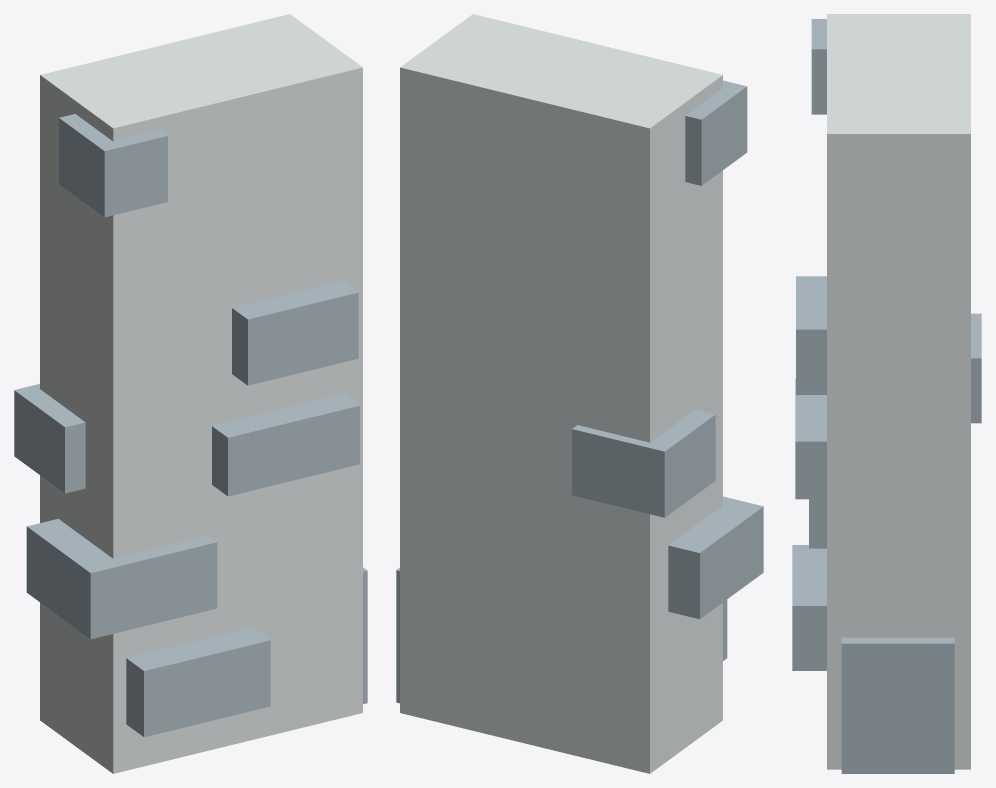
Rendered from building3.fbx.
3 views of the same model, side by side, from view 1: azimuth 30°, elevation 25°; view 2: azimuth 150°, elevation 25°; view 3: azimuth 270°, elevation 25° (orthographic).
Visible parts, largest first — view 1: group226335010, group447709155, group2001267414, group911610171, group148264850, group959440473, group1050693561, group1126512916; view 2: group226335010, group1050693561, group447709155, group959440473; view 3: group226335010, group1126512916, group2001267414, group148264850, group911610171, group959440473, group1050693561, group447709155.
Part boxes in pixels (bbox=[...]): group226335010: bbox=[40, 14, 362, 773]; group447709155: bbox=[26, 518, 217, 639]; group2001267414: bbox=[126, 627, 270, 737]; group911610171: bbox=[212, 394, 359, 496]; group148264850: bbox=[232, 281, 358, 385]; group959440473: bbox=[59, 114, 167, 217]; group1050693561: bbox=[14, 384, 85, 493]; group1126512916: bbox=[363, 567, 367, 704]; group226335010: bbox=[400, 14, 722, 773]; group1050693561: bbox=[572, 409, 715, 517]; group447709155: bbox=[668, 496, 763, 619]; group959440473: bbox=[685, 80, 747, 185]; group226335010: bbox=[827, 14, 970, 769]; group1126512916: bbox=[841, 637, 954, 773]; group2001267414: bbox=[792, 545, 826, 670]; group148264850: bbox=[796, 276, 826, 394]; group911610171: bbox=[795, 378, 826, 499]; group959440473: bbox=[811, 19, 826, 114]; group1050693561: bbox=[971, 313, 981, 423]; group447709155: bbox=[809, 499, 826, 548].
Size of the model in its own units: 26.18 by 55 by 14.87.
